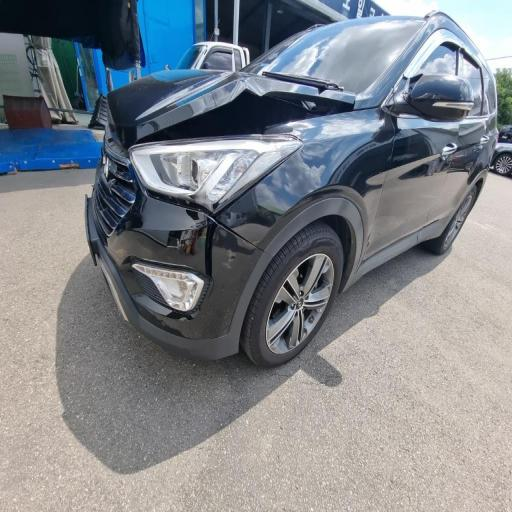dent: (150, 72, 362, 170)
